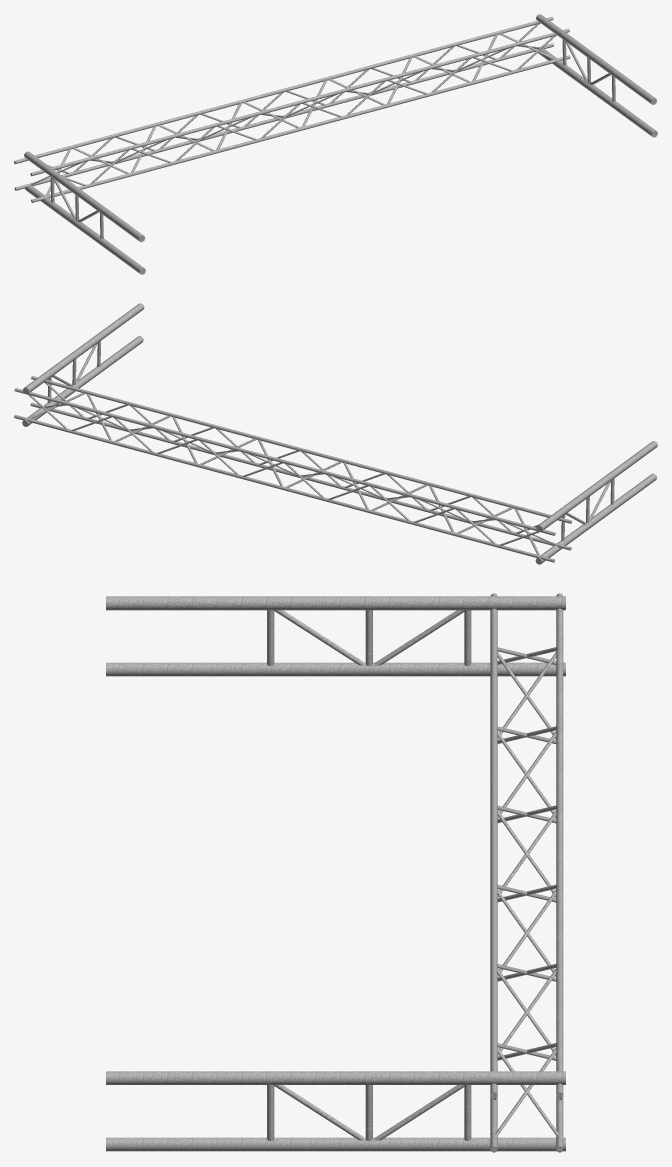
Rendered from _1BRIDGE_AD01_UBS_001_SUB0_Scene.216.obj.
The picture shows the model from 3 angles, top to bottom: view 1: azimuth 30°, elevation 25°; view 2: azimuth 150°, elevation 25°; view 3: azimuth 270°, elevation 25°; orthographic projection. The views are drawn at different scales.
Visible parts, largest first — view 1: _1BRIDGE_AD01_UBS_001_SUB0_Scene.216; view 2: _1BRIDGE_AD01_UBS_001_SUB0_Scene.216; view 3: _1BRIDGE_AD01_UBS_001_SUB0_Scene.216.
Part boxes in pixels (x1=…): _1BRIDGE_AD01_UBS_001_SUB0_Scene.216: x1=14, y1=14, x2=657, y2=274; _1BRIDGE_AD01_UBS_001_SUB0_Scene.216: x1=14, y1=303, x2=657, y2=564; _1BRIDGE_AD01_UBS_001_SUB0_Scene.216: x1=106, y1=593, x2=565, y2=1152.
Bounding box in the file's own units: 18.93 × 1.74 × 7.
